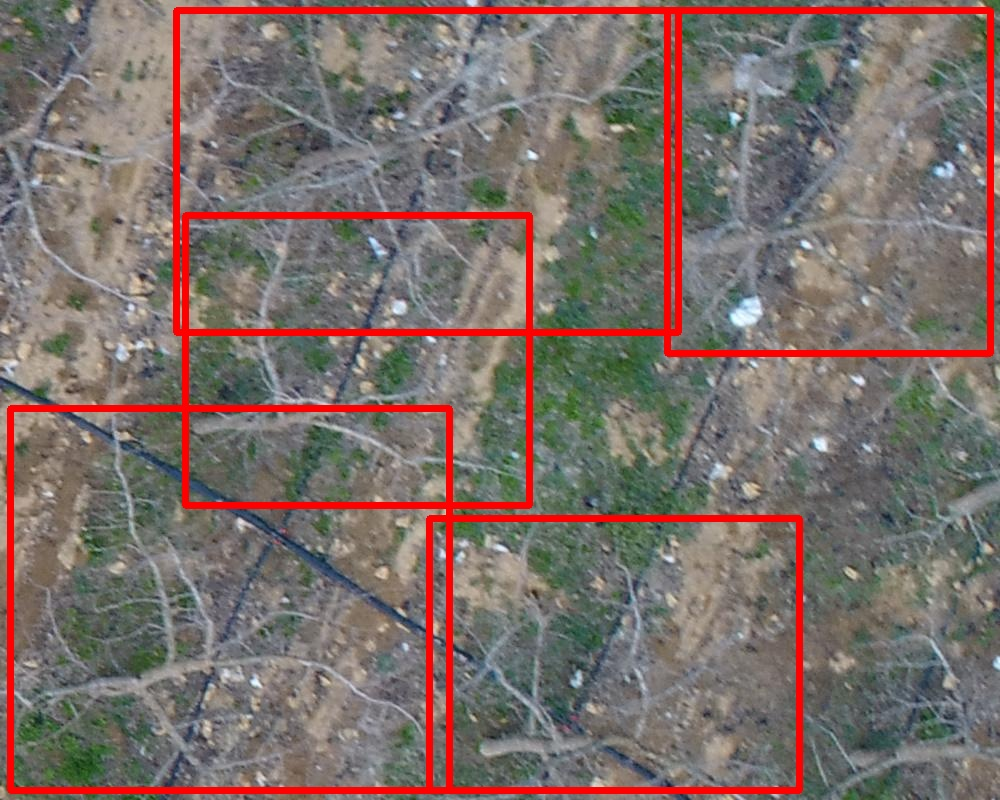apple: (10, 408, 449, 790), (176, 10, 678, 332), (667, 10, 990, 353), (429, 518, 799, 790), (185, 215, 529, 505)
